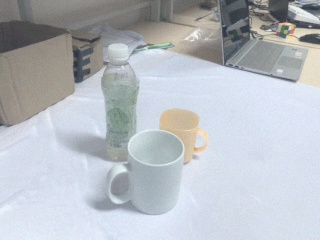bottle: (101, 43, 139, 162)
box: (1, 21, 74, 125)
cup: (106, 129, 185, 215), (159, 108, 209, 165)
